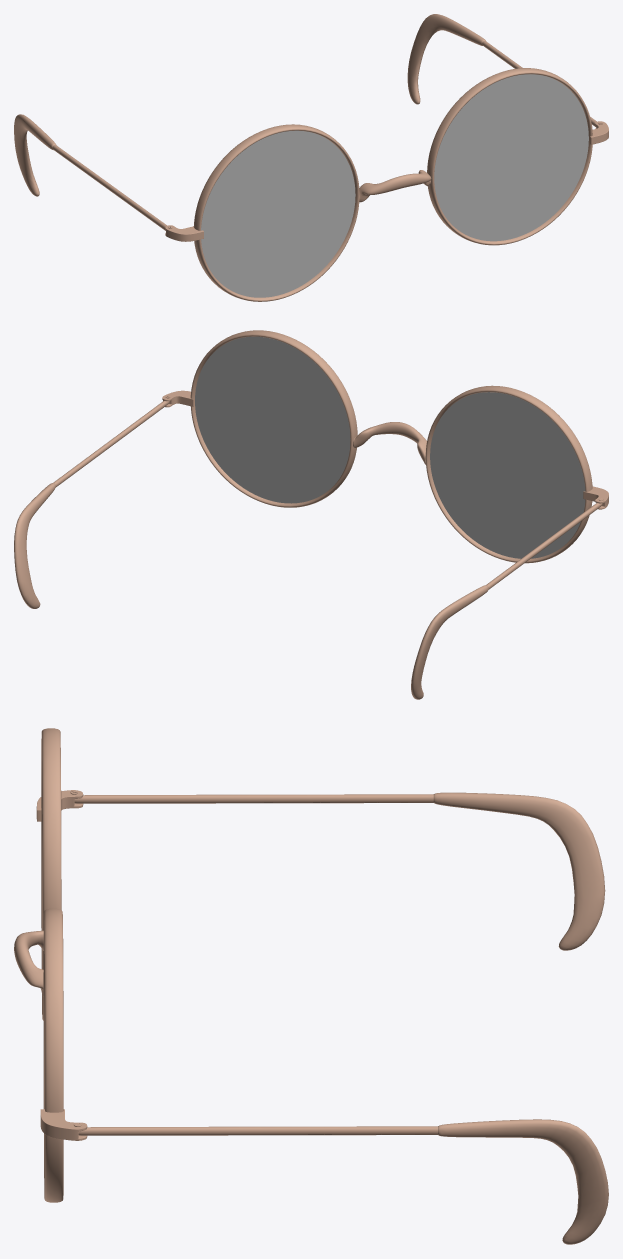
3 renders of one model, top to bottom at view 1: azimuth 30°, elevation 25°; view 2: azimuth 150°, elevation 25°; view 3: azimuth 270°, elevation 25°, orthographic. The views are drawn at different scales.
Parts seen in each view (by area): view 1: polySurface3, polySurface2, polySurface4, polySurface1, pCube4, pCube2, pCube3, pCube1; view 2: polySurface3, polySurface2, polySurface4, polySurface1, pCube2, pCube4, pCube3; view 3: pCube4, pCube2, polySurface4, polySurface1, pCube3, pCube5.
Boxes of the visible parts, x1=… form: polySurface3: x1=434, y1=74, x2=588, y2=241; polySurface2: x1=201, y1=130, x2=355, y2=297; polySurface4: x1=427, y1=68, x2=592, y2=245; polySurface1: x1=193, y1=124, x2=359, y2=301; pCube4: x1=14, y1=114, x2=167, y2=230; pCube2: x1=407, y1=14, x2=596, y2=127; pCube3: x1=359, y1=170, x2=431, y2=202; pCube1: x1=165, y1=225, x2=203, y2=241; polySurface3: x1=195, y1=336, x2=350, y2=503; polySurface2: x1=430, y1=392, x2=585, y2=558; polySurface4: x1=190, y1=330, x2=357, y2=507; polySurface1: x1=425, y1=385, x2=592, y2=563; pCube2: x1=14, y1=401, x2=169, y2=608; pCube4: x1=411, y1=503, x2=602, y2=699; pCube3: x1=353, y1=422, x2=426, y2=464; pCube4: x1=74, y1=792, x2=605, y2=950; pCube2: x1=78, y1=1119, x2=608, y2=1244; polySurface4: x1=43, y1=908, x2=63, y2=1202; polySurface1: x1=41, y1=728, x2=61, y2=1020; pCube3: x1=14, y1=930, x2=43, y2=996; pCube5: x1=40, y1=1109, x2=87, y2=1140.
Bounding box in the file's own units: 5.6 × 2.09 × 4.19.
